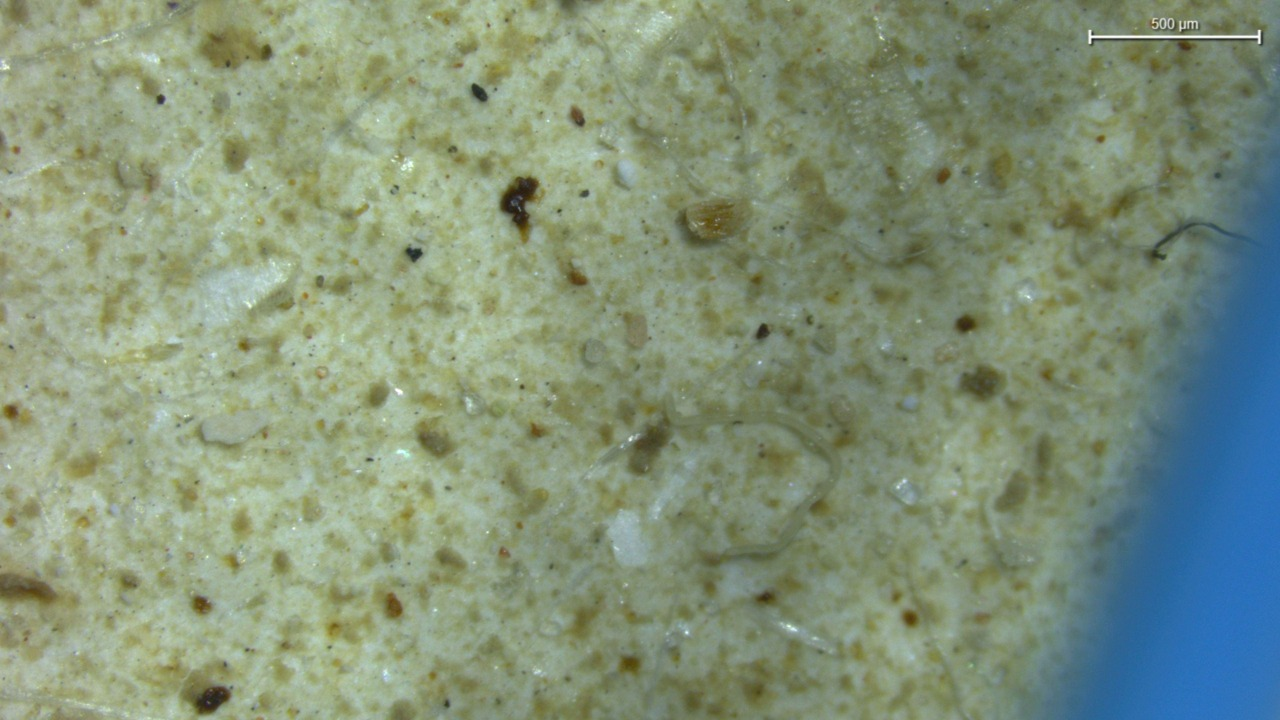microplastic_fragment: (684, 196, 750, 239), (201, 410, 267, 444), (889, 478, 921, 505), (614, 158, 639, 188), (585, 339, 605, 364), (901, 396, 919, 410)
